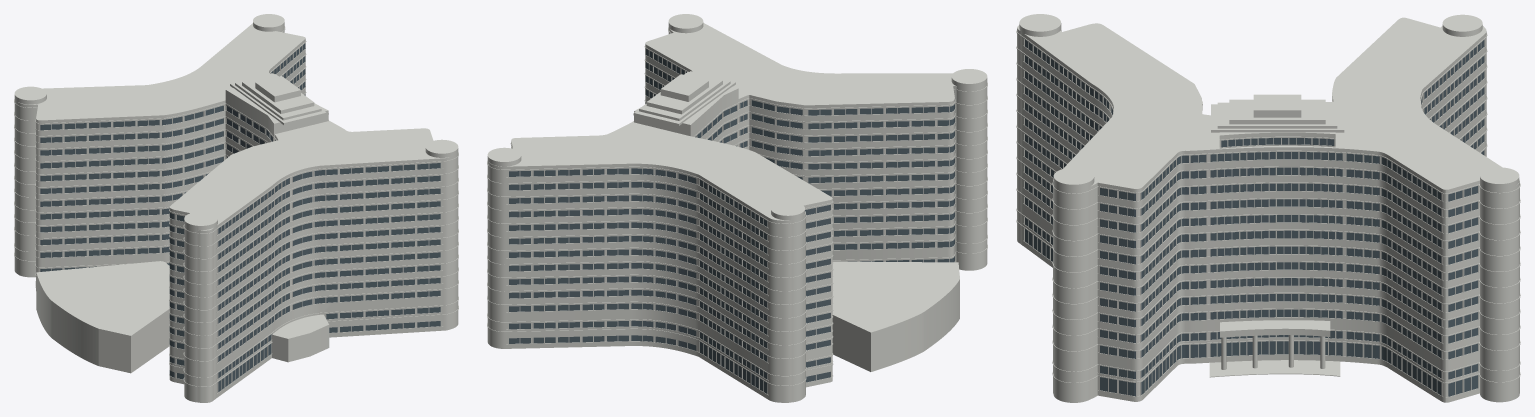
File: bit-center-teaching-building-v3.glb
3 renders of one model, left to right at view 1: azimuth 30°, elevation 25°; view 2: azimuth 150°, elevation 25°; view 3: azimuth 270°, elevation 25°, orthographic. The views are drawn at different scales.
Parts seen in each view (by area): view 1: BIT_CenterTeachingBuilding_Main_V2, Facade_WindowModules_V3, West_IndependentLowBlock, Facade_ContinuousFloorHeaders_V3; view 2: BIT_CenterTeachingBuilding_Main_V2, Facade_WindowModules_V3, Facade_ContinuousFloorHeaders_V3, West_IndependentLowBlock; view 3: BIT_CenterTeachingBuilding_Main_V2, Facade_WindowModules_V3, Facade_ContinuousFloorHeaders_V3, Entrance_LocalGroundPad.
Part boxes in pixels (left/top/right/bottom): BIT_CenterTeachingBuilding_Main_V2: left=14, top=14, right=458, bottom=402; Facade_WindowModules_V3: left=35, top=43, right=443, bottom=393; West_IndependentLowBlock: left=36, top=261, right=169, bottom=373; Facade_ContinuousFloorHeaders_V3: left=14, top=26, right=458, bottom=387; BIT_CenterTeachingBuilding_Main_V2: left=487, top=14, right=987, bottom=402; Facade_WindowModules_V3: left=506, top=48, right=955, bottom=395; Facade_ContinuousFloorHeaders_V3: left=487, top=27, right=987, bottom=386; West_IndependentLowBlock: left=832, top=261, right=959, bottom=371; BIT_CenterTeachingBuilding_Main_V2: left=1017, top=14, right=1519, bottom=402; Facade_WindowModules_V3: left=1023, top=39, right=1485, bottom=397; Facade_ContinuousFloorHeaders_V3: left=1016, top=30, right=1520, bottom=383; Entrance_LocalGroundPad: left=1209, top=360, right=1340, bottom=377.
Bounding box in the file's own units: 79.34 × 46.32 × 86.89.
